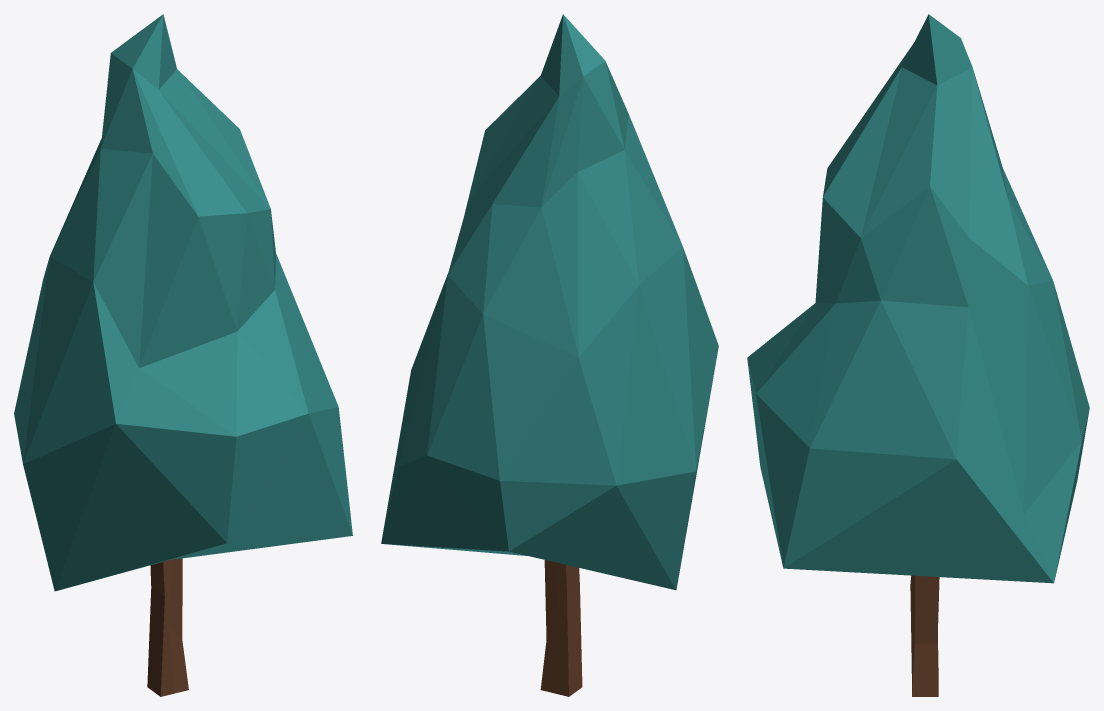
Rendered from Tree_16_Blue.fbx.
3 renders of one model, left to right at view 1: azimuth 30°, elevation 25°; view 2: azimuth 150°, elevation 25°; view 3: azimuth 270°, elevation 25°, orthographic.
Parts seen in each view (by area): view 1: Tree_16_Blue_Part_1, Tree_16_Blue_Part_2; view 2: Tree_16_Blue_Part_1, Tree_16_Blue_Part_2; view 3: Tree_16_Blue_Part_1, Tree_16_Blue_Part_2.
Boxes of the visible parts, x1,y1,x2,y2 form: Tree_16_Blue_Part_1: (14, 14, 352, 591); Tree_16_Blue_Part_2: (147, 558, 188, 696); Tree_16_Blue_Part_1: (381, 14, 718, 590); Tree_16_Blue_Part_2: (540, 560, 582, 696); Tree_16_Blue_Part_1: (747, 14, 1089, 583); Tree_16_Blue_Part_2: (910, 575, 939, 696).
Size of the model in its own units: 339 by 797 by 367.
